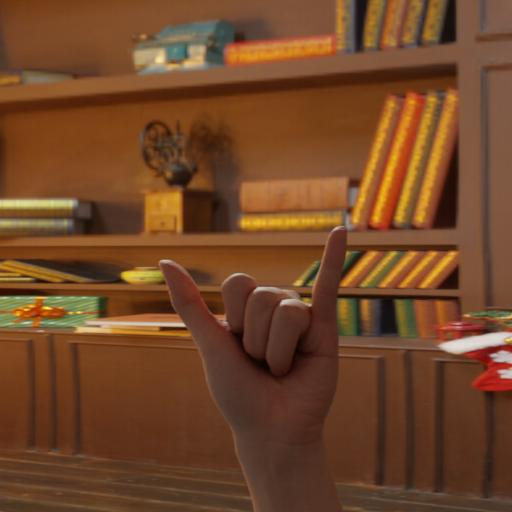Y: (122, 183, 386, 492)
